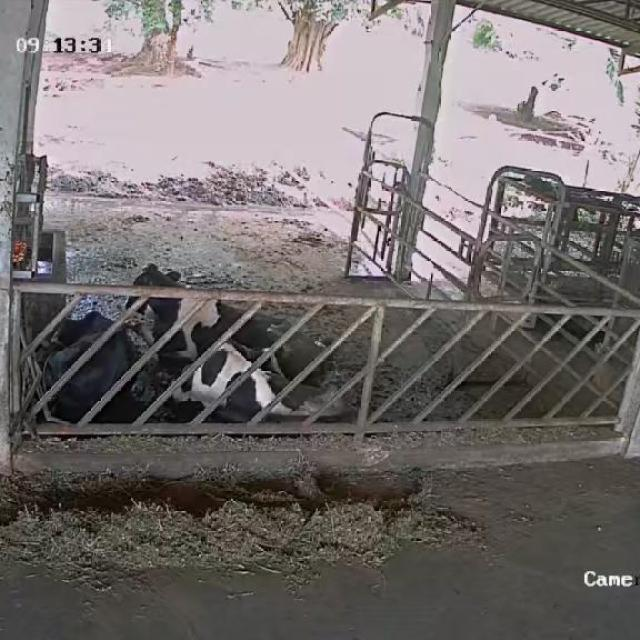lying down: (116, 257, 327, 381), (162, 339, 328, 424), (31, 313, 150, 427)
